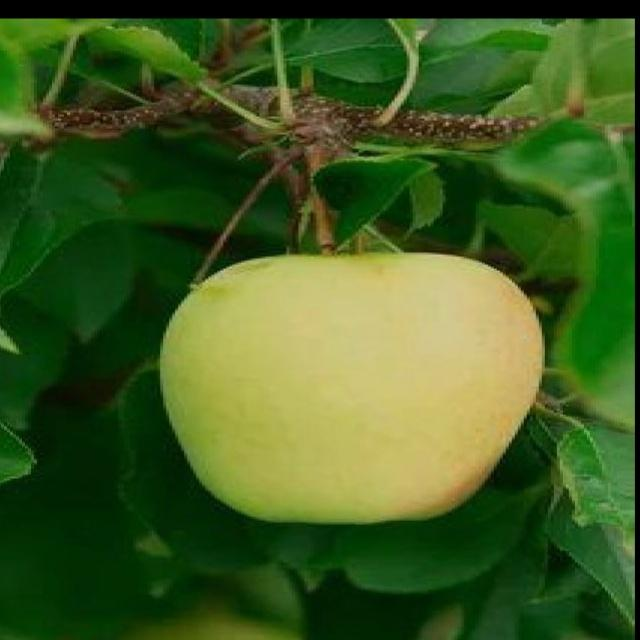green apple: (152, 248, 549, 525)
